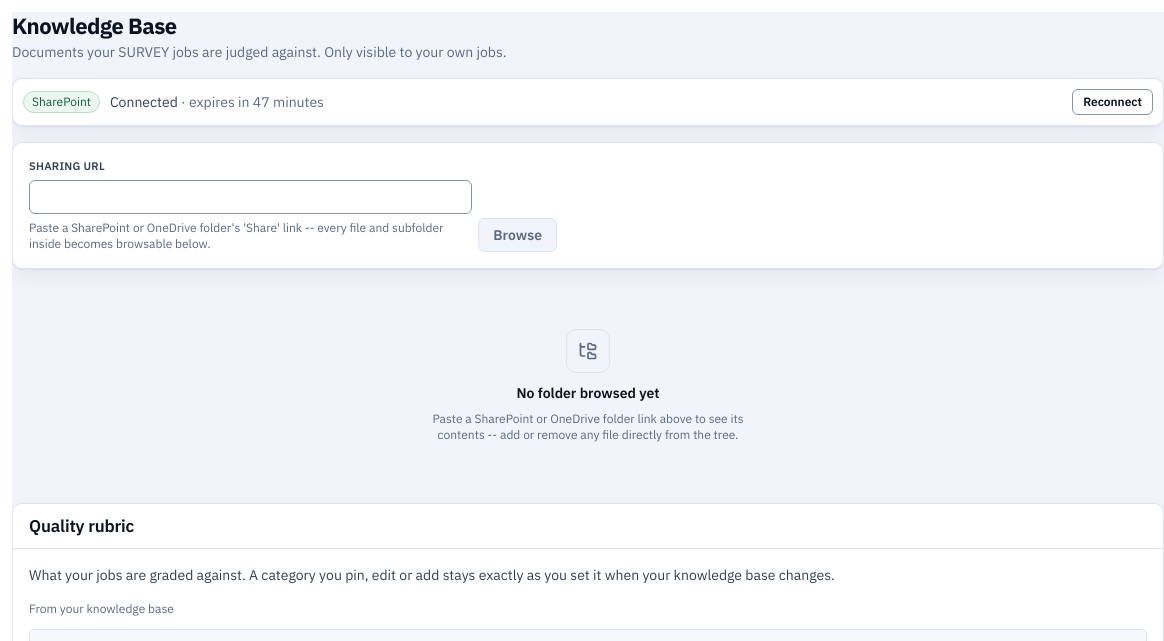
Test: KnowledgeBase › shows a browse error without a stale tree
The image size is (1164, 641).
Type "https://share.example/folder" into the field labelled "Sharing URL" at (251, 197), box [29,180,472,214]
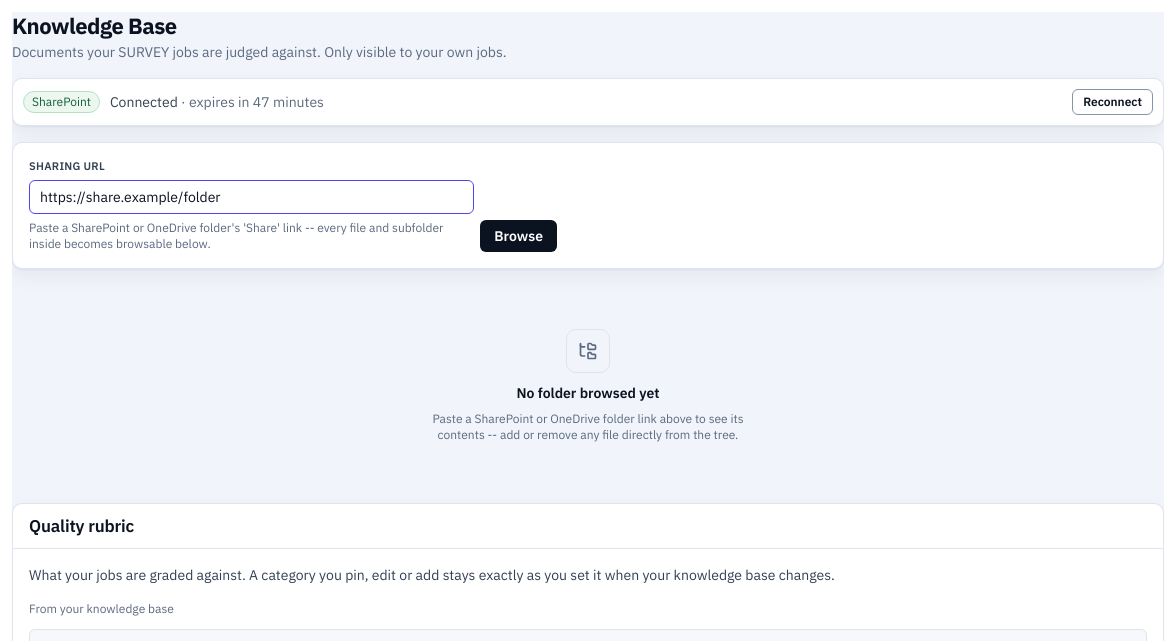
Click the button "Browse" at (519, 236), box [480,220,557,252]
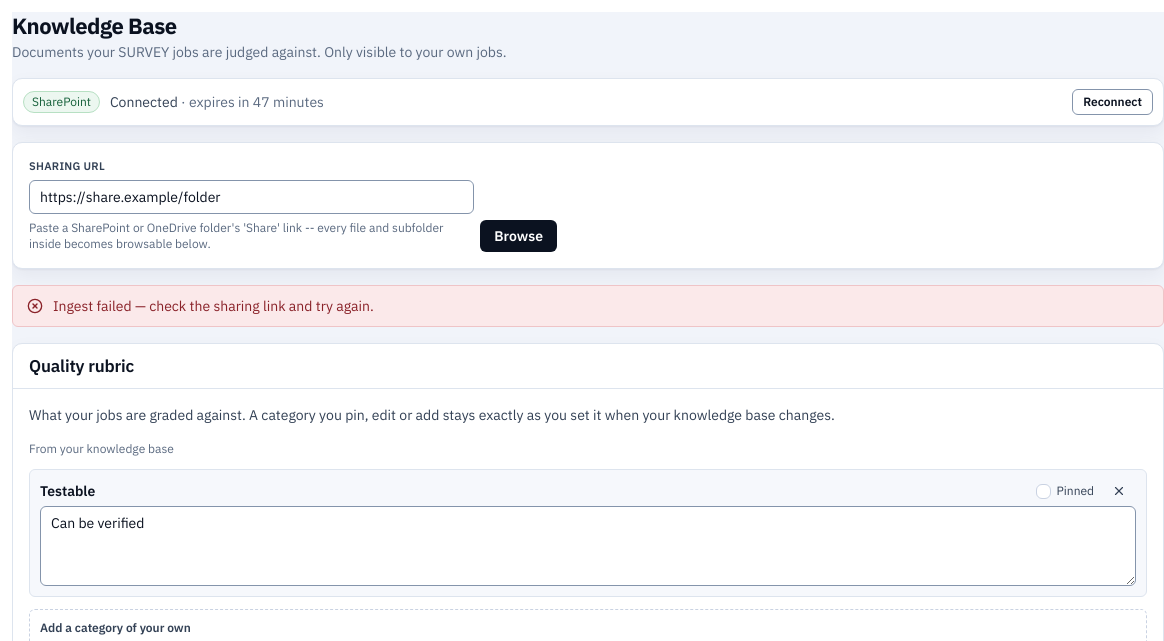
Expected: the text "Ingest failed — check the sharing link and try again." is shown, [53,297,374,315]
